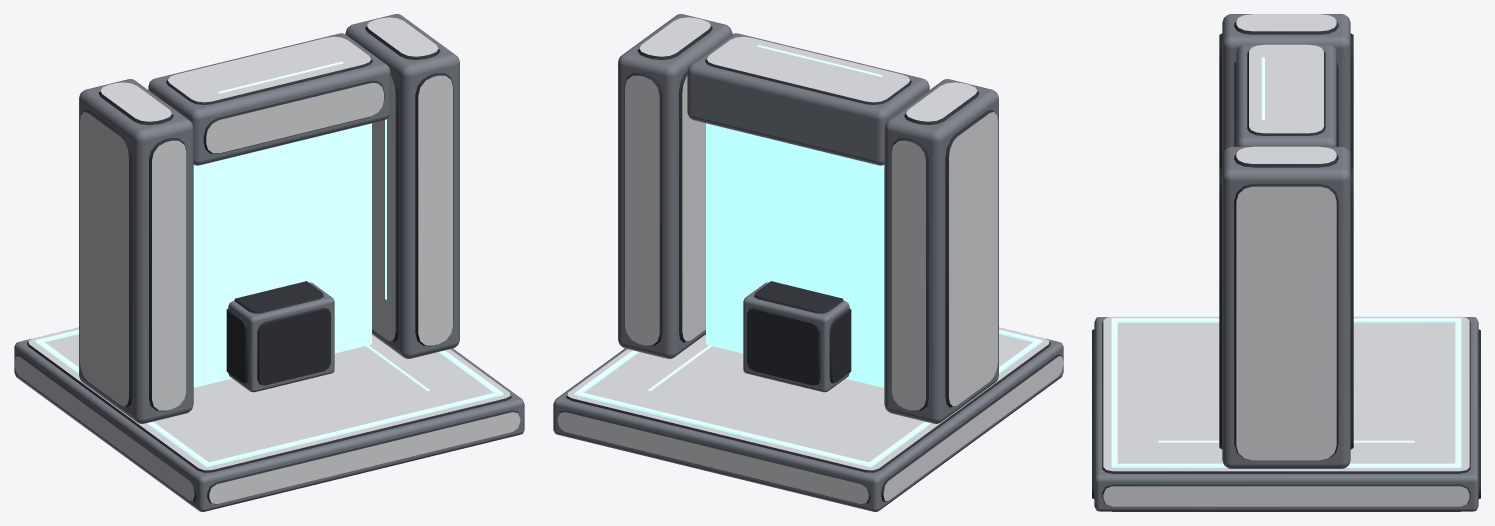
The model's file is R4X_StructuralScanner.fbx.
The picture shows the model from 3 angles, left to right: view 1: azimuth 30°, elevation 25°; view 2: azimuth 150°, elevation 25°; view 3: azimuth 270°, elevation 25°; orthographic projection. The views are drawn at different scales.
Visible parts, largest first — view 1: R4X_StructuralScanner_Body; view 2: R4X_StructuralScanner_Body; view 3: R4X_StructuralScanner_Body.
Boxes of the visible parts, x1,y1,x2,y2 form: R4X_StructuralScanner_Body: [14, 14, 524, 511]; R4X_StructuralScanner_Body: [553, 14, 1063, 511]; R4X_StructuralScanner_Body: [1092, 14, 1480, 511].
Size of the model in its own units: 0.52 by 0.5112 by 0.52.
